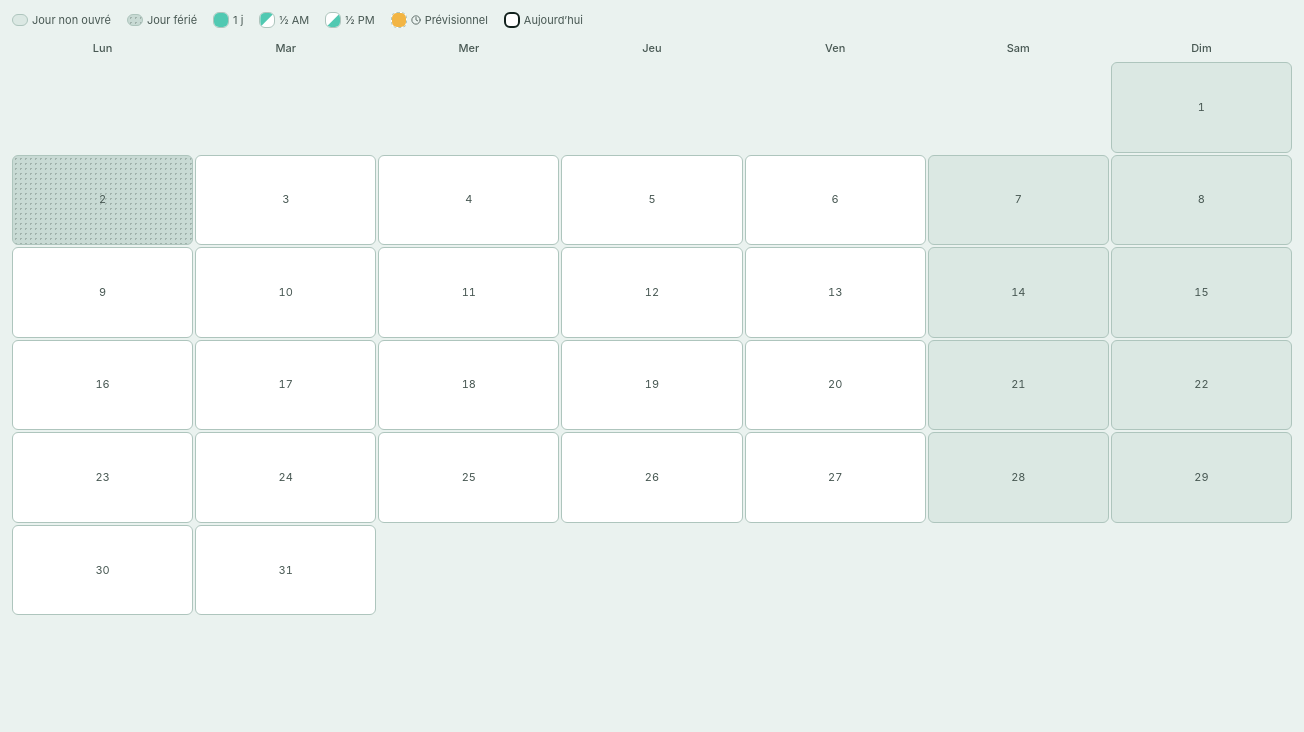
Scenario: MonthCalendar › sélection par glissement › referme la barre sans rien appliquer sur Annuler
This screenshot has width=1304, height=732.
Press the mouse on the button "9" at (103,292), box 12,247 -> 193,338
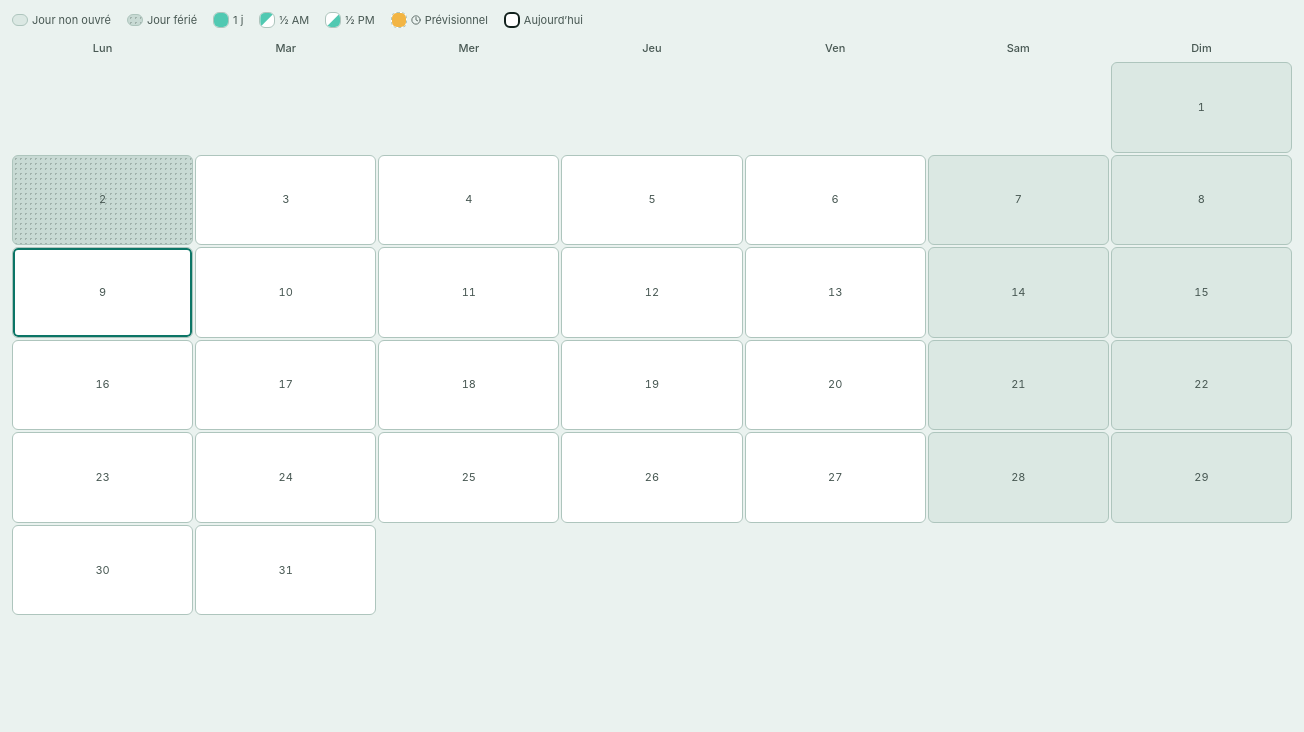
Hover over the button with test id "case-2026-03-10".
mouse_move(286, 292)  # box 195,247 -> 376,338
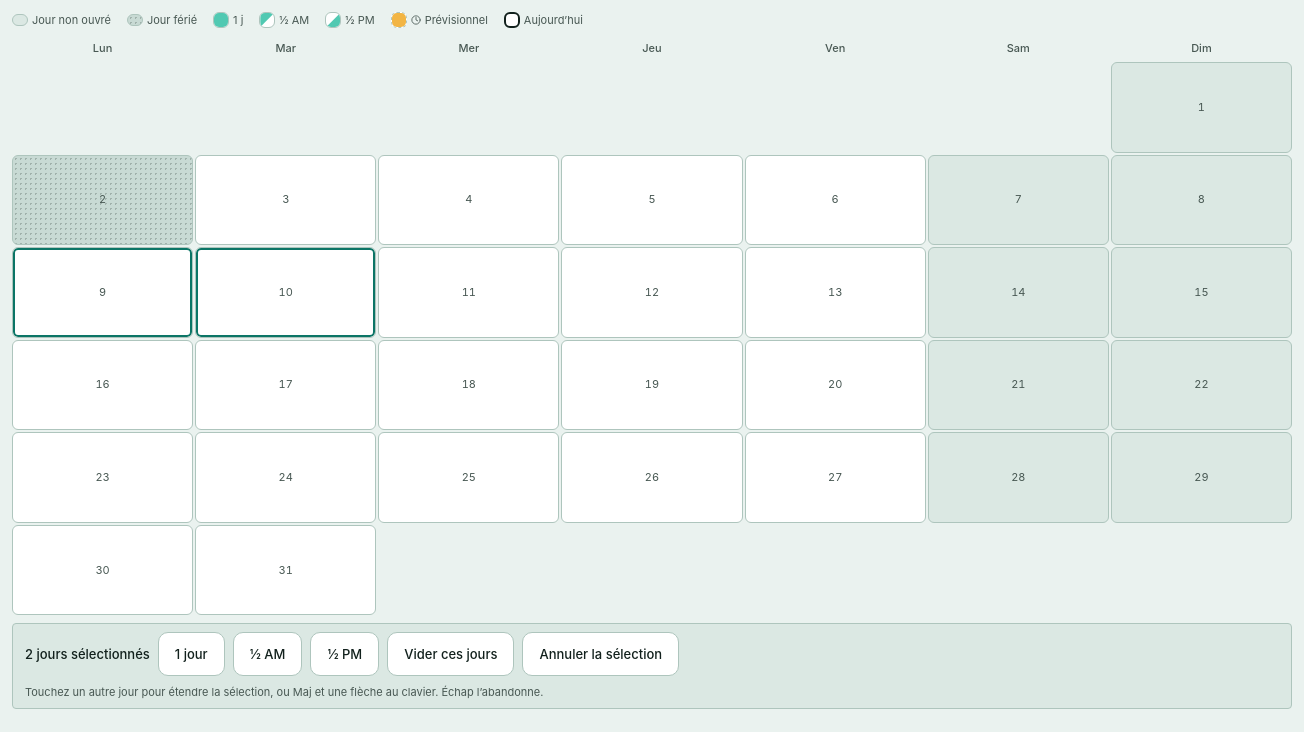
Click the button "Annuler la sélection".
click(601, 654)  # box 522,632 -> 679,676
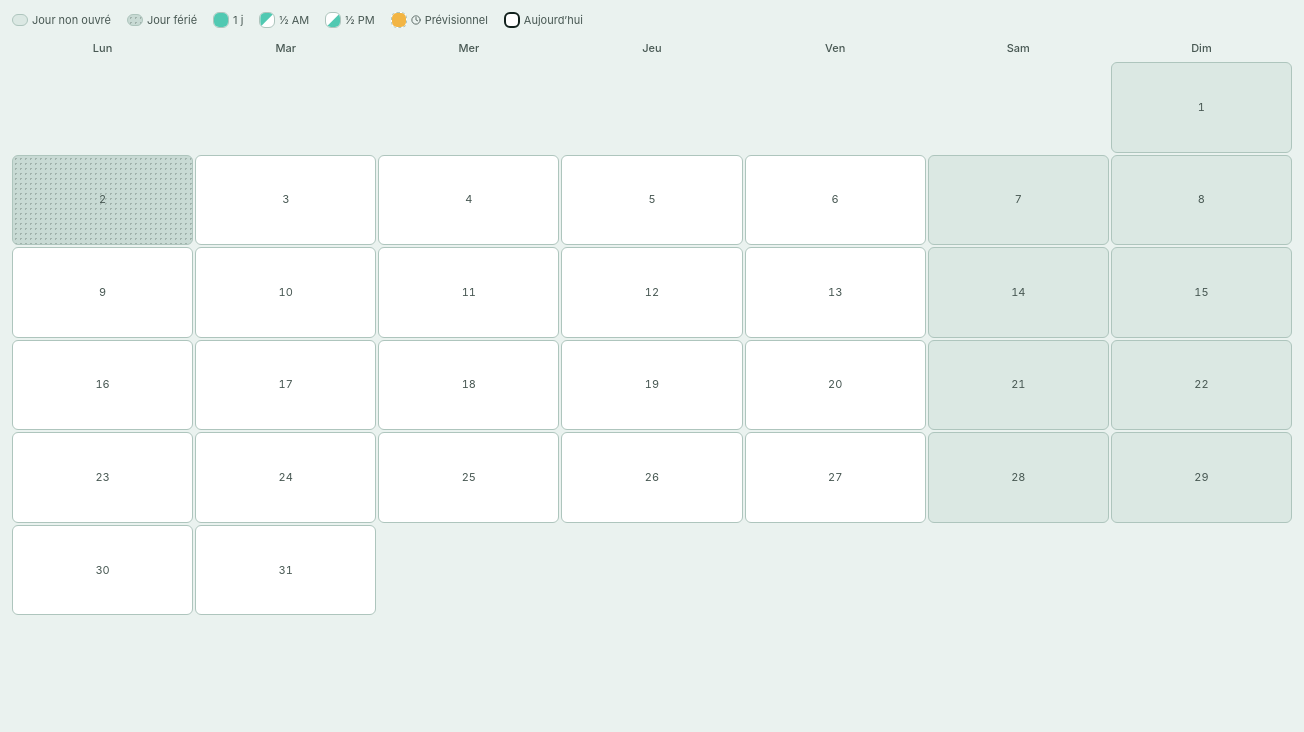
Expected: the message with test id "barre-selection" is gone
